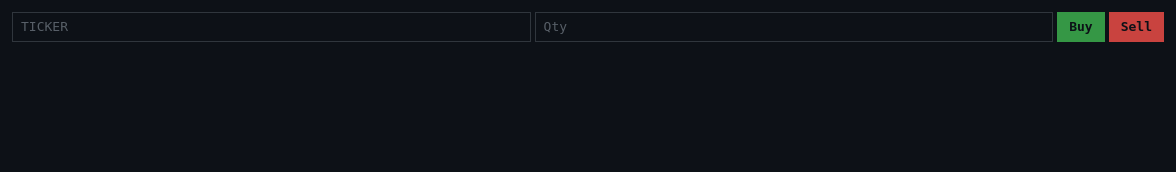
TradeBar › shows the server error and keeps the quantity
Type "NVDA" into the field labelled "Ticker".
click(271, 27); type("NVDA")  # box [12,12,531,42]
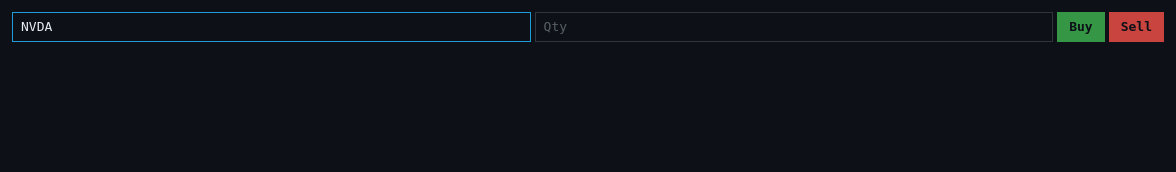
Type "1000" into the number field named "Quantity".
click(794, 27); type("1000")  # box [535,12,1053,42]
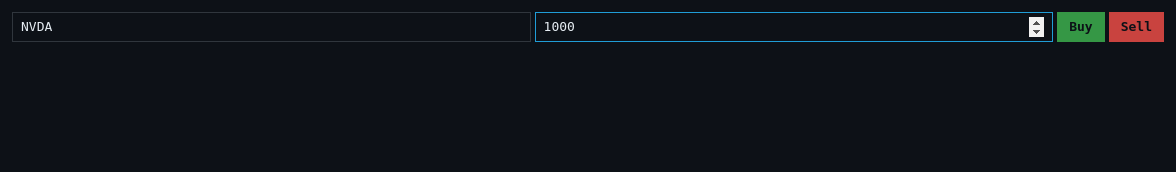
Click the button "Buy".
click(1081, 27)  # box [1057,12,1105,42]
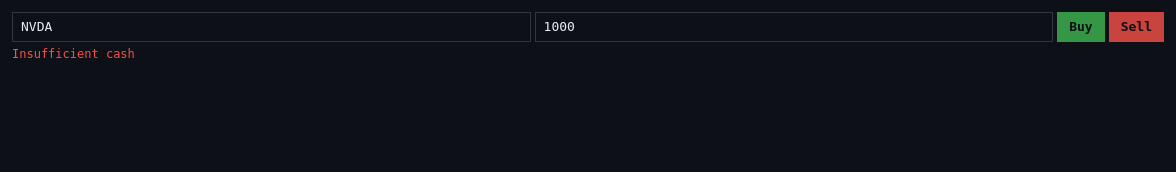
Expected: the message reads "Insufficient cash", [12,46,135,60]
